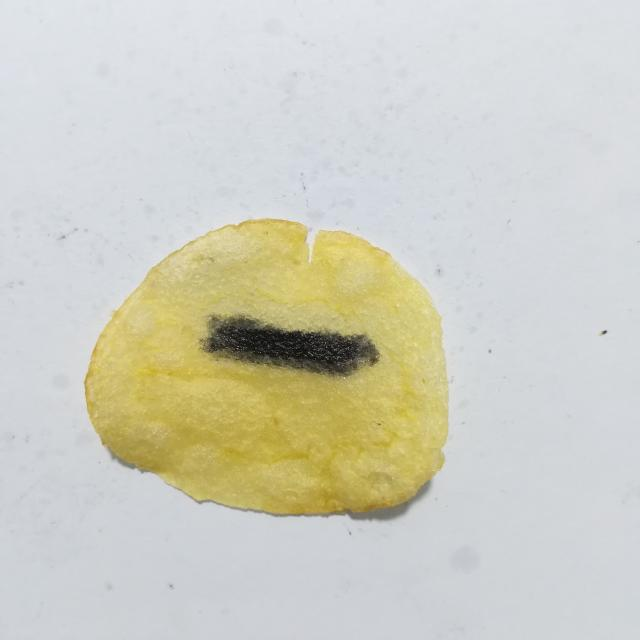chip: (85, 219, 448, 514)
damaged: (202, 316, 380, 375)
